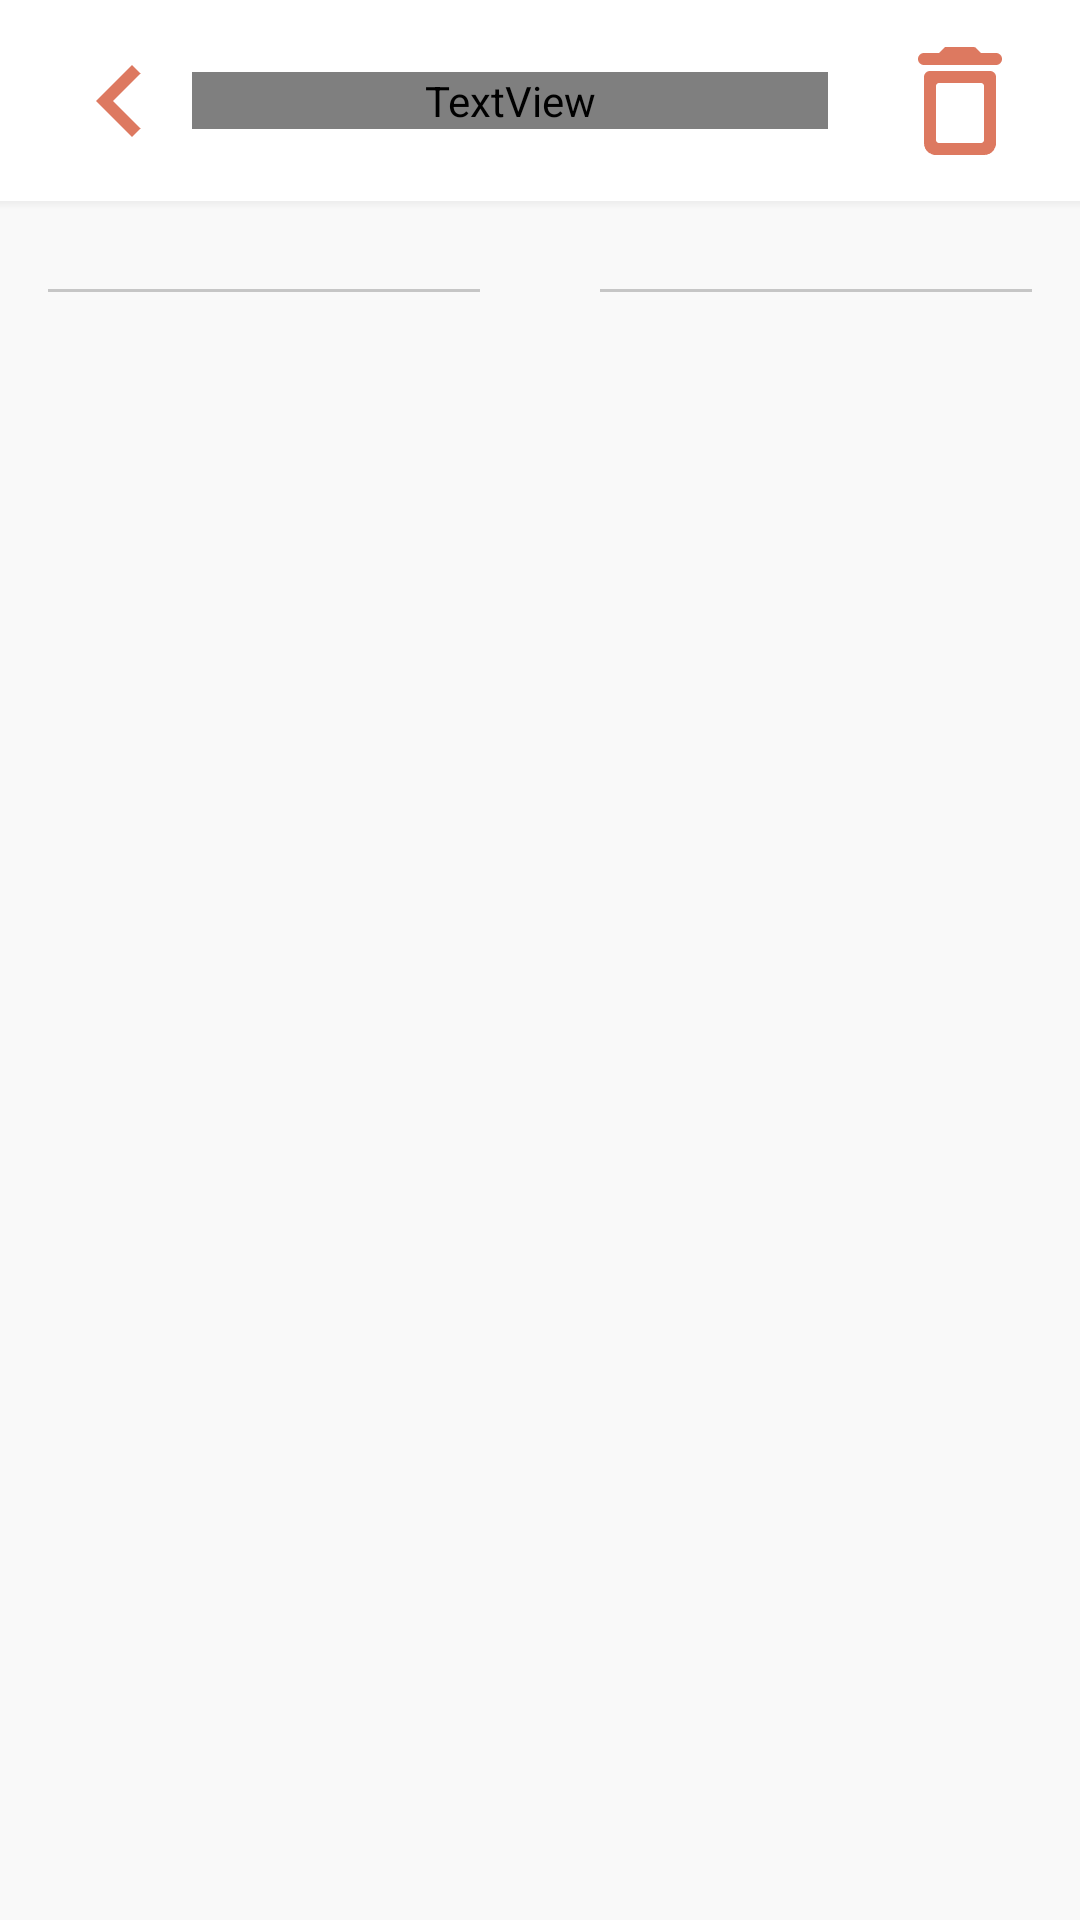

Icons on this 1080*1920 Android screen, each with the point to tap as (x=x, y=y):
강연(회의) 삭제하기: (x=960, y=101)
뒤로가기: (x=118, y=101)
